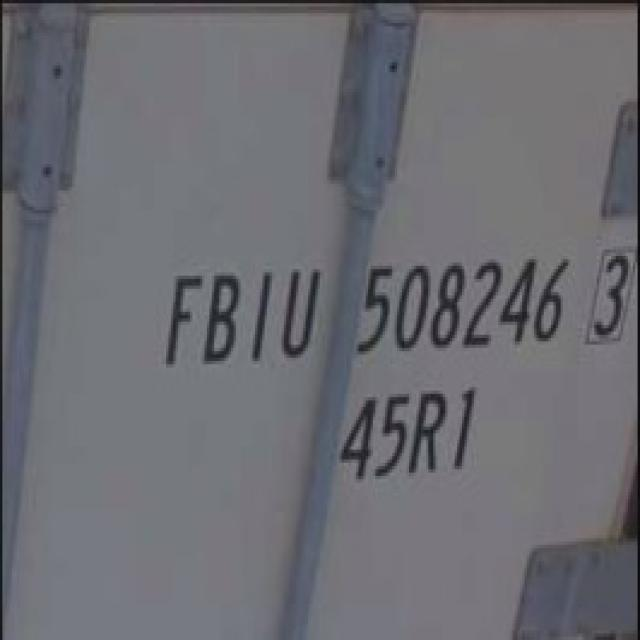dv: (581, 240, 640, 346)
owner: (154, 255, 322, 374)
serial: (355, 249, 573, 363)
size: (333, 379, 485, 491)
